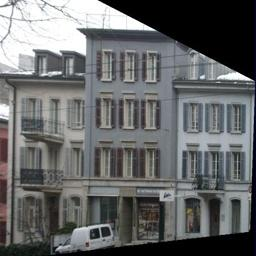building: (5, 17, 256, 244)
